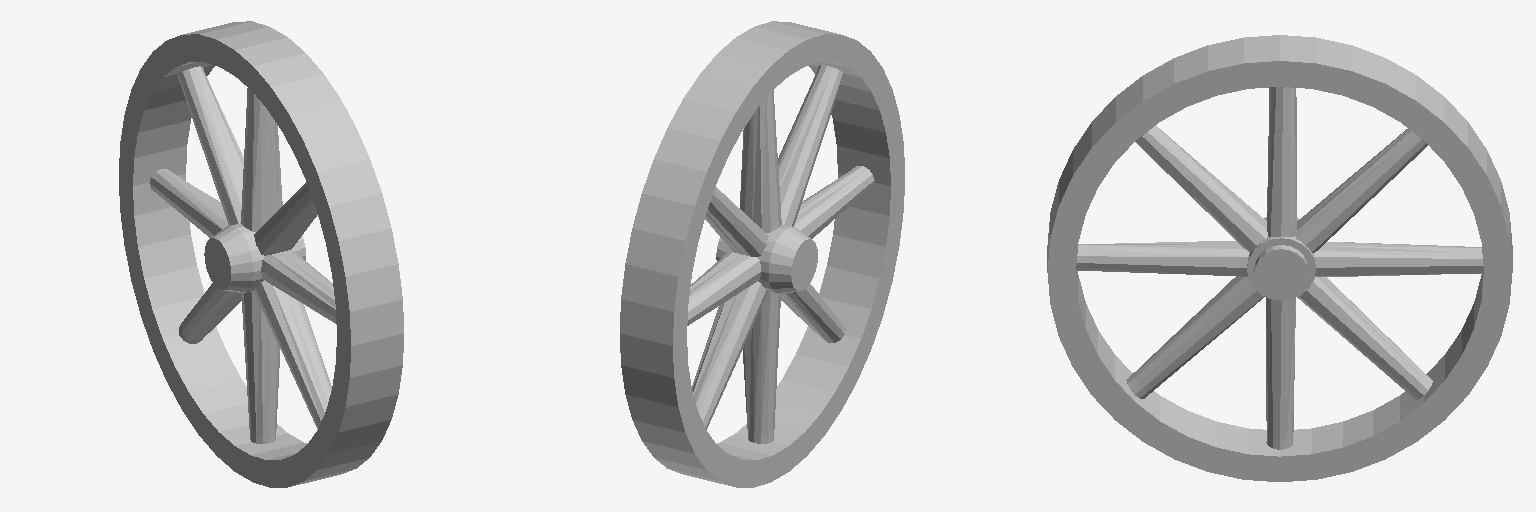
File: wheelLP.obj
3 renders of one model, left to right at view 1: azimuth 30°, elevation 25°; view 2: azimuth 150°, elevation 25°; view 3: azimuth 270°, elevation 25°, orthographic.
Visible parts, largest first — view 1: default; view 2: default; view 3: default.
Part boxes in pixels (x1,y1,x2,y2): default: (119, 21, 403, 487); default: (620, 21, 904, 487); default: (1047, 35, 1512, 481).
Size of the model in its own units: 0.5863 by 3.15 by 3.15.